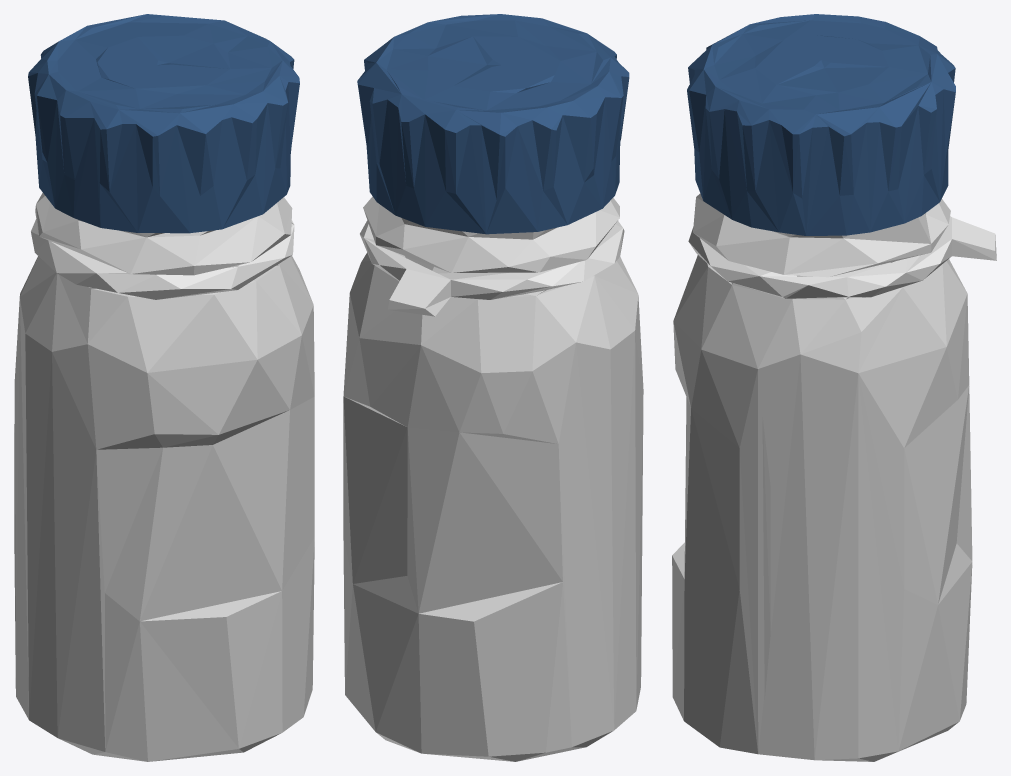
The model's file is bottle_laboratory_a01.glb.
3 views of the same model, side by side, from view 1: azimuth 30°, elevation 25°; view 2: azimuth 150°, elevation 25°; view 3: azimuth 270°, elevation 25° (orthographic).
Parts seen in each view (by area): view 1: part2, part0, part1; view 2: part2, part0, part1; view 3: part2, part0, part1.
Boxes of the visible parts, x1,y1,x2,y2 form: part2: (14,193,314,761); part0: (28,14,299,233); part1: (31,219,294,299); part2: (343,196,643,761); part0: (357,14,629,234); part1: (360,220,624,316); part2: (672,193,972,761); part0: (687,14,955,235); part1: (688,216,996,699).
Size of the model in its own units: 0.0596 by 0.1424 by 0.065.
